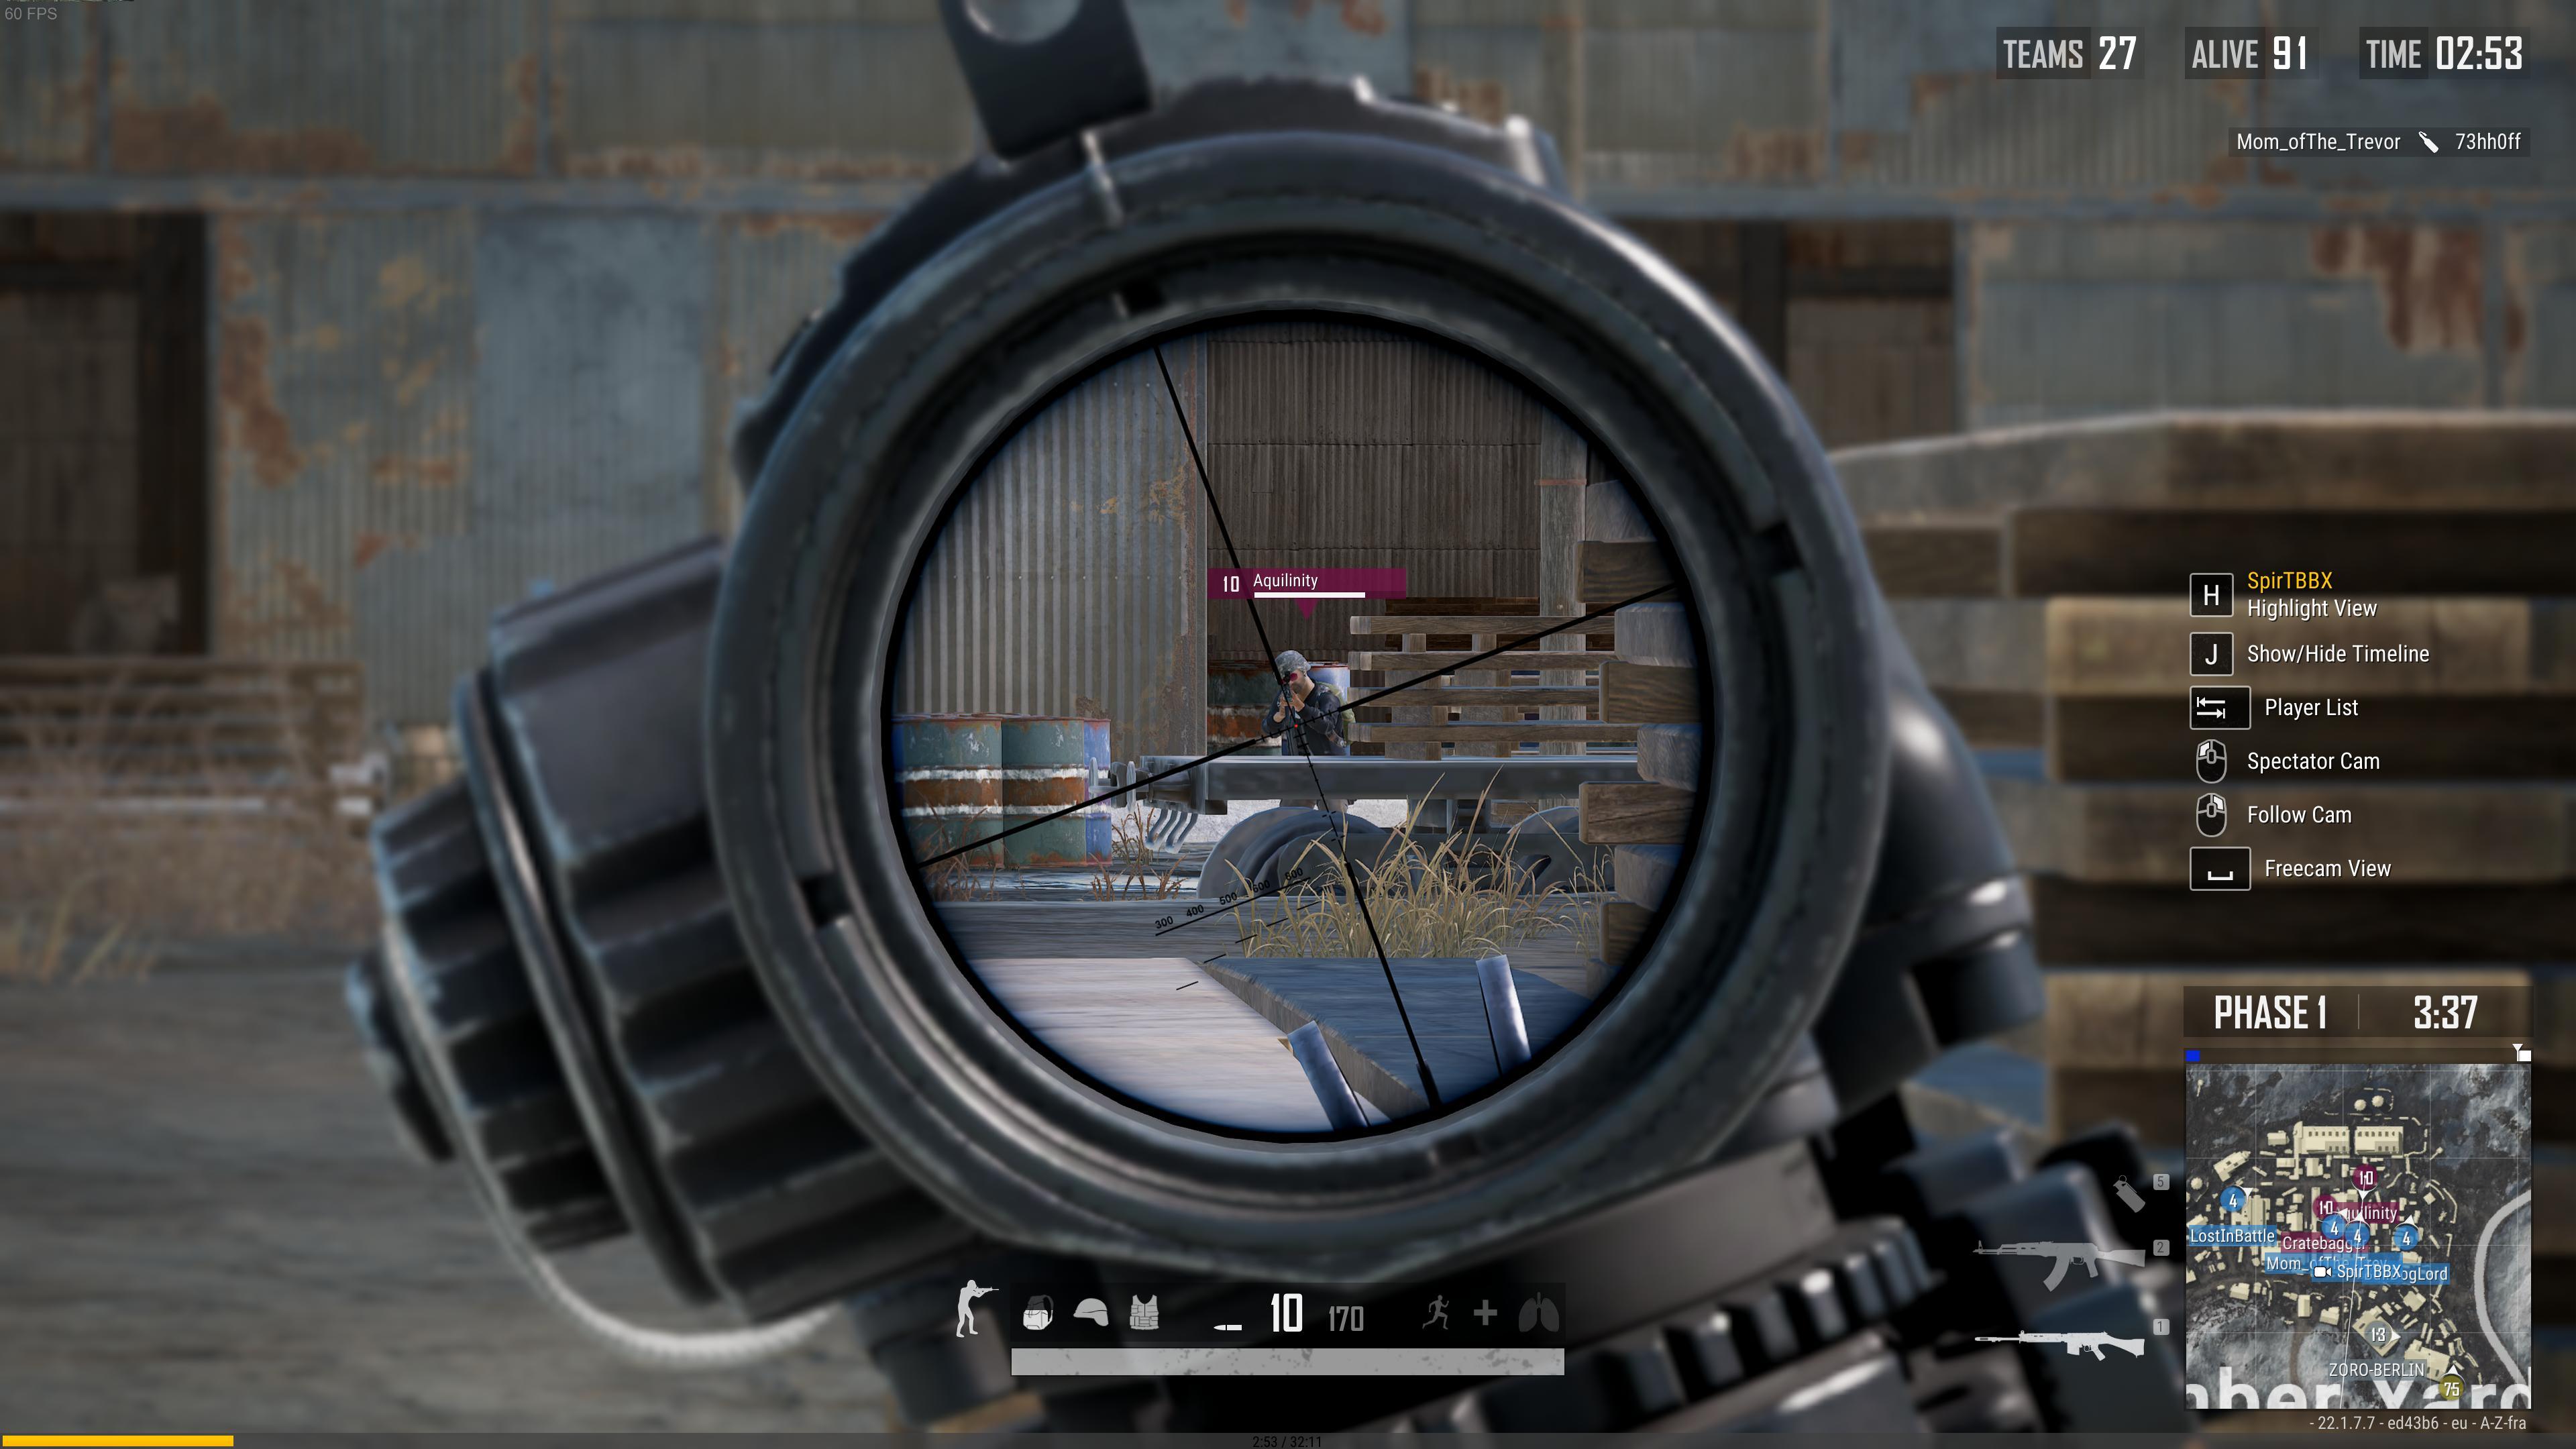enemy: (1261, 649, 1355, 812)
enemy_head: (1272, 649, 1311, 694)
